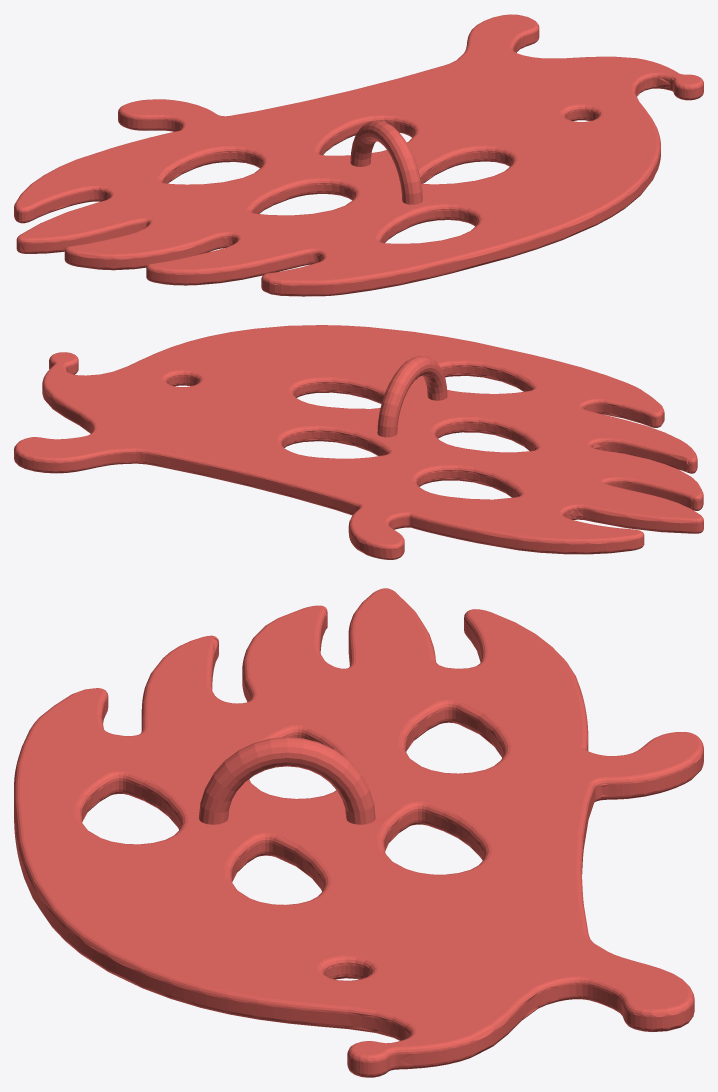
The model's file is pendantHedgehog.glb.
3 renders of one model, top to bottom at view 1: azimuth 30°, elevation 25°; view 2: azimuth 150°, elevation 25°; view 3: azimuth 270°, elevation 25°, orthographic. The views are drawn at different scales.
Visible parts, largest first — view 1: object_1; view 2: object_1; view 3: object_1.
Part boxes in pixels (<box>): object_1: <box>14,14,703,296</box>; object_1: <box>14,325,703,559</box>; object_1: <box>14,588,703,1077</box>.
Size of the model in its own units: 22.69 by 2.3 by 14.04.
